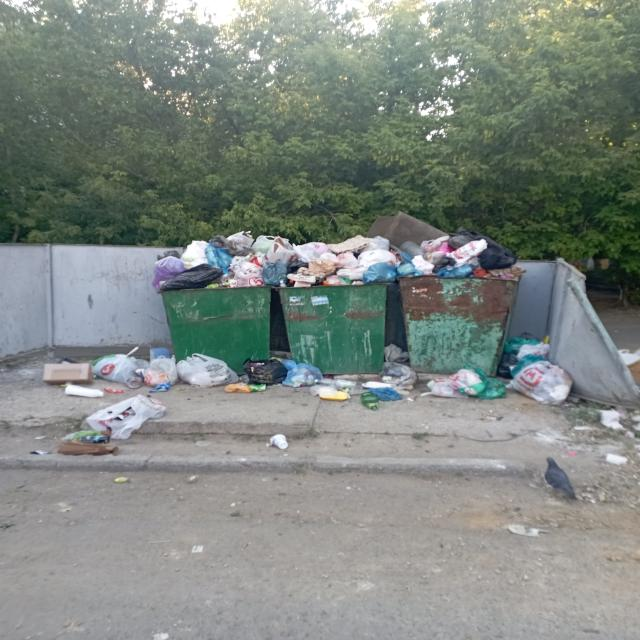bin: (398, 279, 515, 373), (277, 283, 388, 373), (163, 287, 269, 370)
trash: (41, 329, 581, 459), (156, 209, 529, 288), (257, 428, 303, 452)
